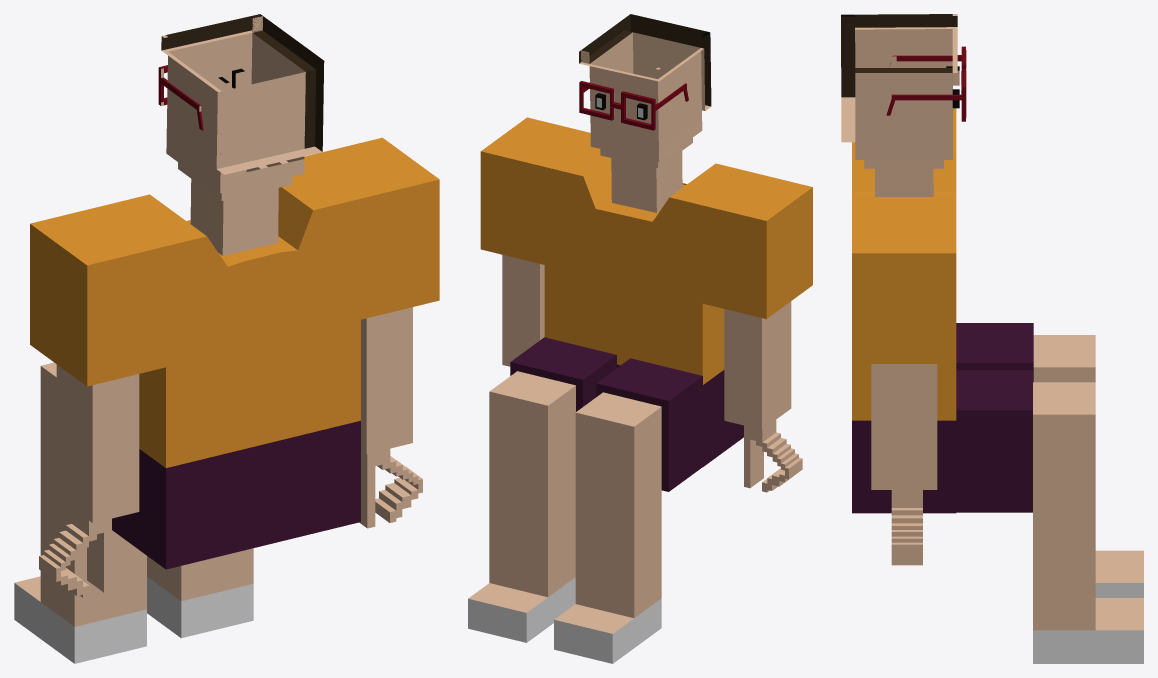
File: Pokemon_Priyank.glb
3 views of the same model, side by side, from view 1: azimuth 30°, elevation 25°; view 2: azimuth 150°, elevation 25°; view 3: azimuth 270°, elevation 25° (orthographic). The views are drawn at different scales.
Visible parts, largest first — view 1: Pokemon_Priyank; view 2: Pokemon_Priyank; view 3: Pokemon_Priyank.
Boxes of the visible parts, x1=… form: Pokemon_Priyank: x1=14, y1=14, x2=439, y2=663; Pokemon_Priyank: x1=468, y1=14, x2=812, y2=663; Pokemon_Priyank: x1=841, y1=14, x2=1143, y2=663.
Bounding box in the file's own units: 4.65 × 7.83 × 3.64.
